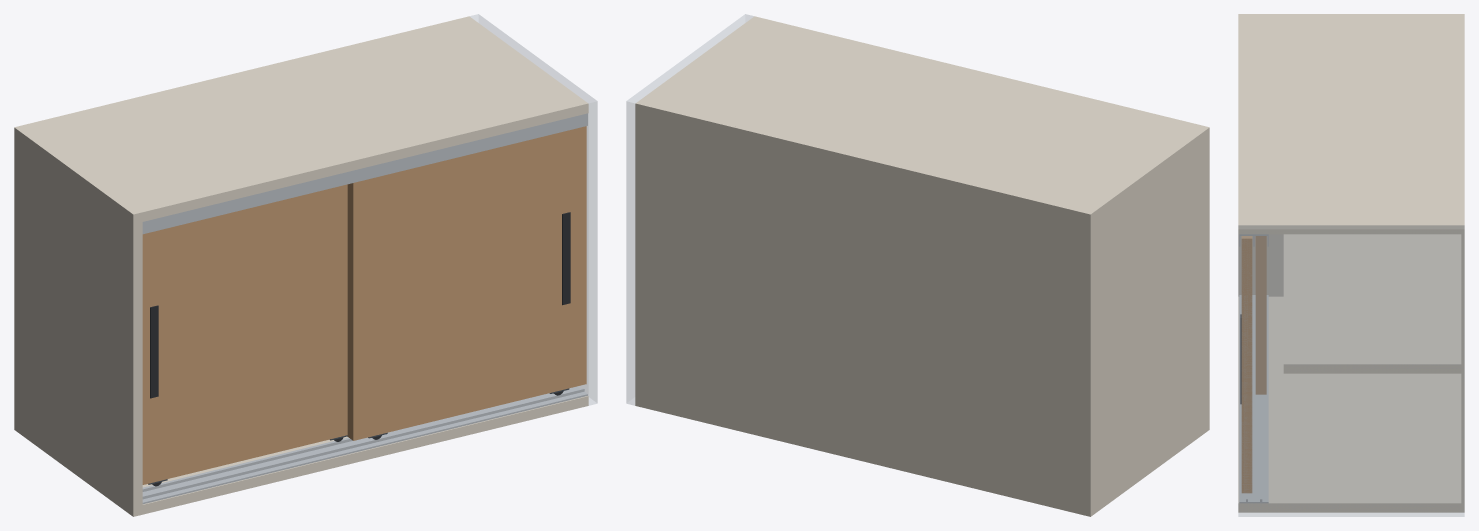
File: sliding.glb
The picture shows the model from 3 angles, left to right: view 1: azimuth 30°, elevation 25°; view 2: azimuth 150°, elevation 25°; view 3: azimuth 270°, elevation 25°; orthographic projection. The views are drawn at different scales.
Parts seen in each view (by area): view 1: 문 판.001, 몸통 윗판, 문 판, 몸통 옆판 왼쪽, 몸통 밑판, 위 레일 칸막이, 몸통 옆판 오른쪽, 아래 레일 바탕, 아래 레일 턱, 몸통 뒤판, 아래 레일 턱.001, 문 손잡이 홈 (+2 smaller); view 2: 몸통 뒤판, 몸통 윗판, 몸통 옆판 왼쪽, 몸통 밑판, 몸통 옆판 오른쪽; view 3: 몸통 옆판 오른쪽, 몸통 윗판, 몸통 밑판, 몸통 선반, 문 판.001, 아래 레일 바탕, 몸통 옆판 왼쪽, 문 판, 몸통 뒤판, 아래 레일 턱.001.
Boxes of the visible parts, x1,y1,x2,y2 form: 문 판.001: (347,126,586,440); 몸통 윗판: (25,17,588,221); 문 판: (142,184,347,484); 몸통 옆판 왼쪽: (14,125,142,516); 몸통 밑판: (142,396,588,514); 위 레일 칸막이: (142,114,587,234); 몸통 옆판 오른쪽: (470,14,597,405); 아래 레일 바탕: (142,386,587,504); 아래 레일 턱: (142,388,584,499); 몸통 뒤판: (24,16,470,126); 아래 레일 턱.001: (142,438,352,491); 문 손잡이 홈: (150,305,158,398); 몸통 뒤판: (635,102,1082,504); 몸통 윗판: (635,16,1199,221); 몸통 옆판 왼쪽: (1081,125,1209,516); 몸통 밑판: (635,396,1081,514); 몸통 옆판 오른쪽: (626,14,753,405); 몸통 옆판 오른쪽: (1238,225,1464,516); 몸통 윗판: (1238,18,1464,234); 몸통 밑판: (1238,296,1464,512); 몸통 선반: (1283,234,1461,373); 문 판.001: (1241,236,1252,493); 아래 레일 바탕: (1239,295,1268,503); 몸통 옆판 왼쪽: (1238,14,1464,296); 문 판: (1255,236,1266,394); 몸통 뒤판: (1461,18,1464,503); 아래 레일 턱.001: (1260,394,1262,501).
Size of the model in its own units: 0.9 by 0.56 by 0.4.
